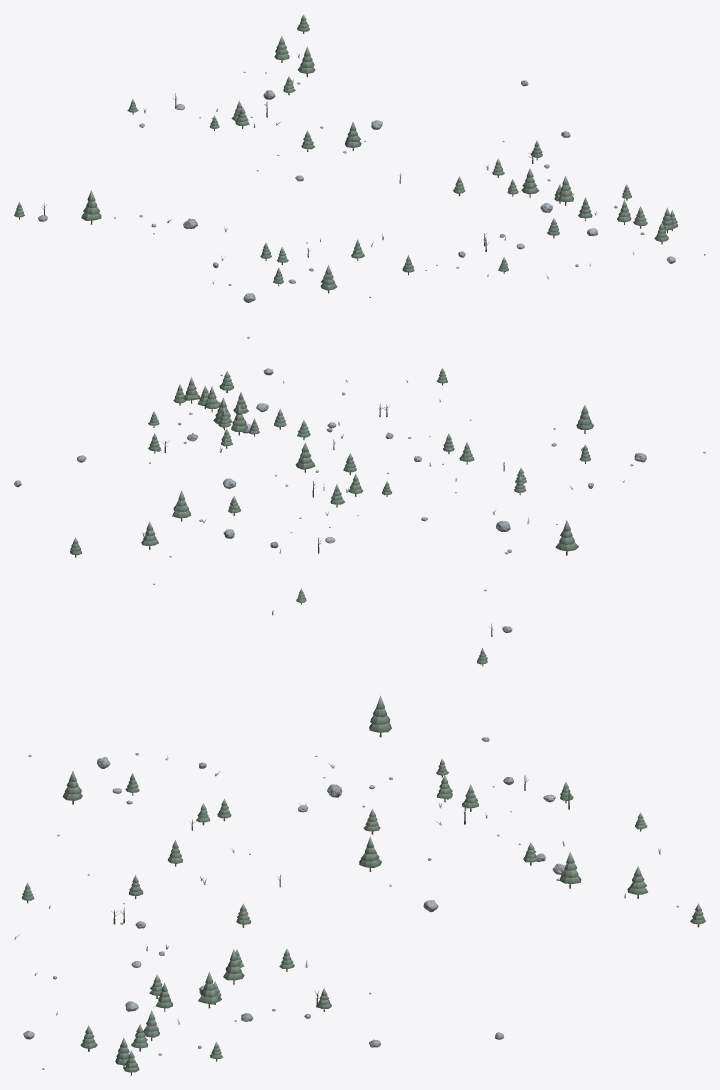
File: frost_land_scatter_c21_09.glb
The picture shows the model from 3 angles, top to bottom: view 1: azimuth 30°, elevation 25°; view 2: azimuth 150°, elevation 25°; view 3: azimuth 270°, elevation 25°; orthographic projection. The views are drawn at different scales.
Parts seen in each view (by area): view 1: frost_land_scatter_c21_09; view 2: frost_land_scatter_c21_09; view 3: frost_land_scatter_c21_09.
Part boxes in pixels (x1,y1,x2,y2): frost_land_scatter_c21_09: (14, 14, 705, 338); frost_land_scatter_c21_09: (14, 368, 705, 666); frost_land_scatter_c21_09: (14, 695, 705, 1075).
Bounding box in the file's own units: 257 × 53.5 × 257.
